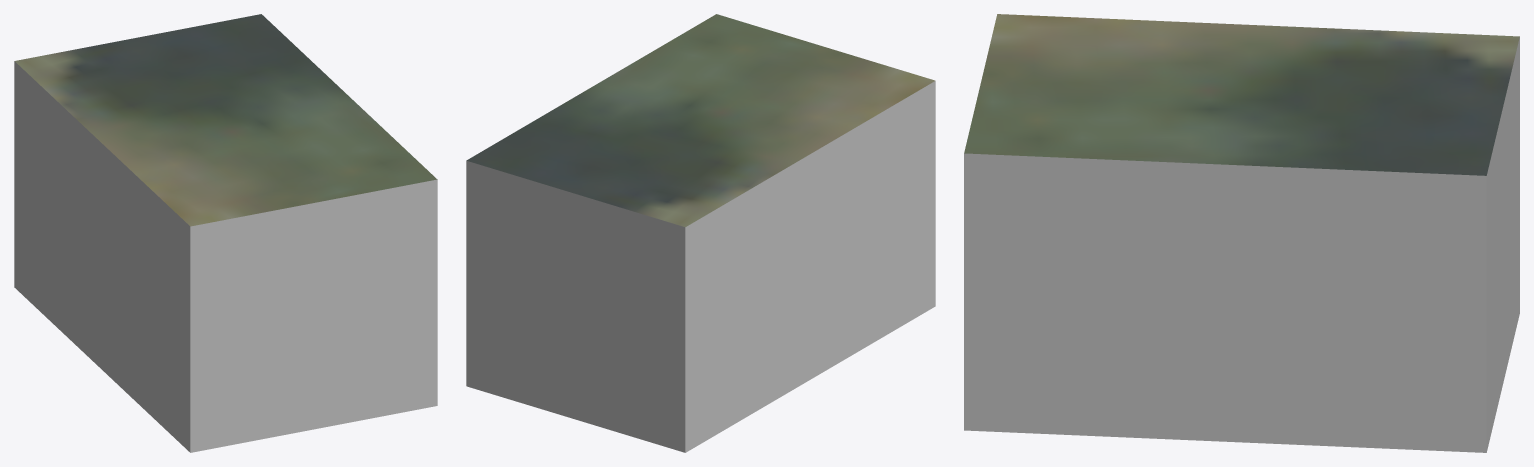
File: DEBW_0010007Txg7.gltf
The picture shows the model from 3 angles, left to right: view 1: azimuth 30°, elevation 25°; view 2: azimuth 150°, elevation 25°; view 3: azimuth 270°, elevation 25°; orthographic projection. The views are drawn at different scales.
Parts seen in each view (by area): view 1: Z_UP; view 2: Z_UP; view 3: Z_UP.
Part boxes in pixels (<box>): Z_UP: <box>14,14,437,452</box>; Z_UP: <box>466,14,935,452</box>; Z_UP: <box>964,14,1519,452</box>.
Bounding box in the file's own units: 3.46 × 2.76 × 5.02.
2 materials, 1 textured.
